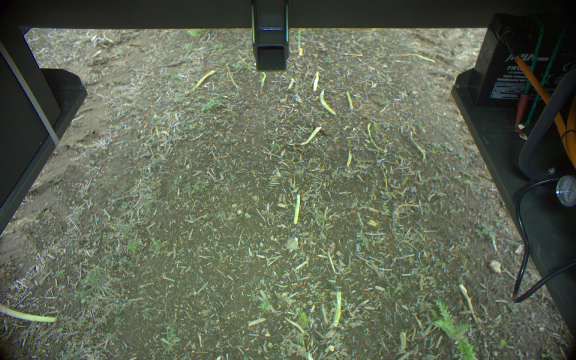aspa: (364, 122, 385, 153), (319, 87, 335, 116), (300, 125, 322, 145), (332, 289, 343, 328), (195, 68, 215, 89), (292, 191, 303, 227), (344, 150, 355, 169), (295, 28, 303, 54), (344, 88, 352, 111), (313, 70, 320, 94)
